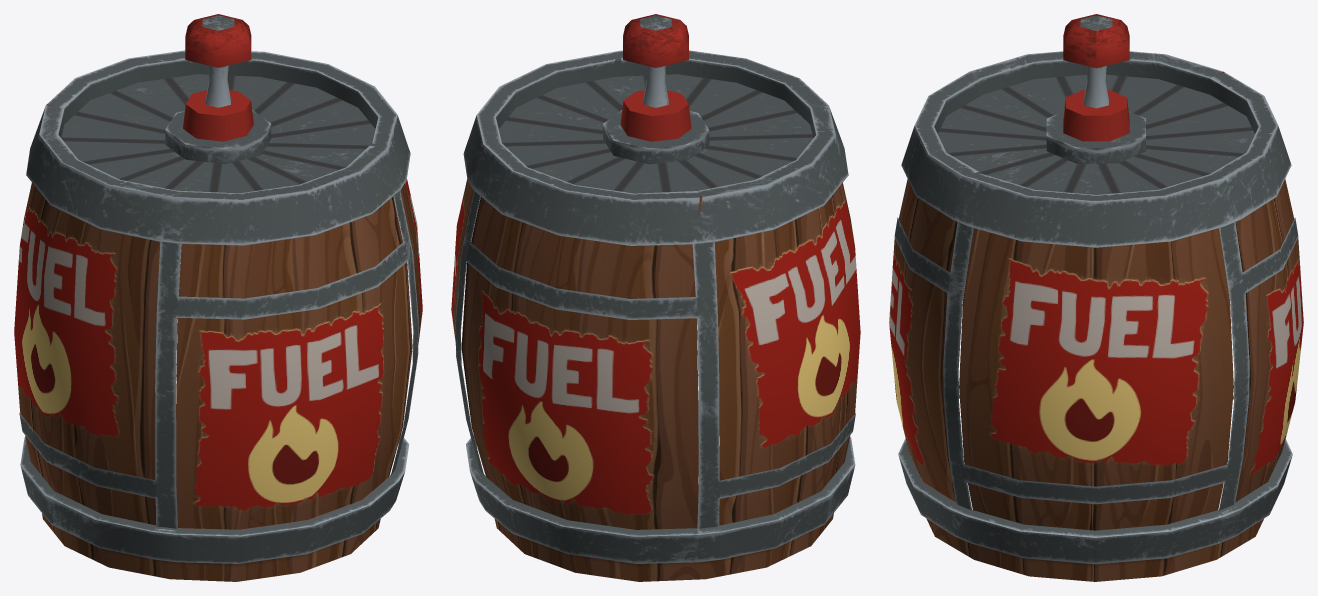
Rendered from fuel_mobile.gltf.
3 views of the same model, side by side, from view 1: azimuth 30°, elevation 25°; view 2: azimuth 150°, elevation 25°; view 3: azimuth 270°, elevation 25° (orthographic).
Visible parts, largest first — view 1: barrel.002, rotor.hub.002; view 2: barrel.002, rotor.hub.002; view 3: barrel.002, rotor.hub.002.
Boxes of the visible parts, x1,y1,x2,y2 form: barrel.002: (14,50,422,581); rotor.hub.002: (185,14,251,107); barrel.002: (451,50,860,581); rotor.hub.002: (623,14,688,107); barrel.002: (889,51,1303,581); rotor.hub.002: (1063,14,1129,108).
Bounding box in the file's own units: 0.9379 × 1.22 × 0.9379.
Materials: 1 (1 with a texture image).
